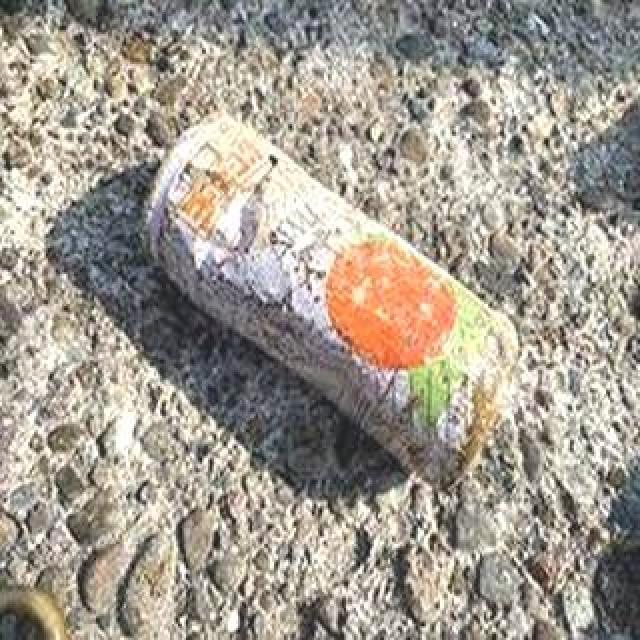recyclable: (141, 109, 523, 499)
